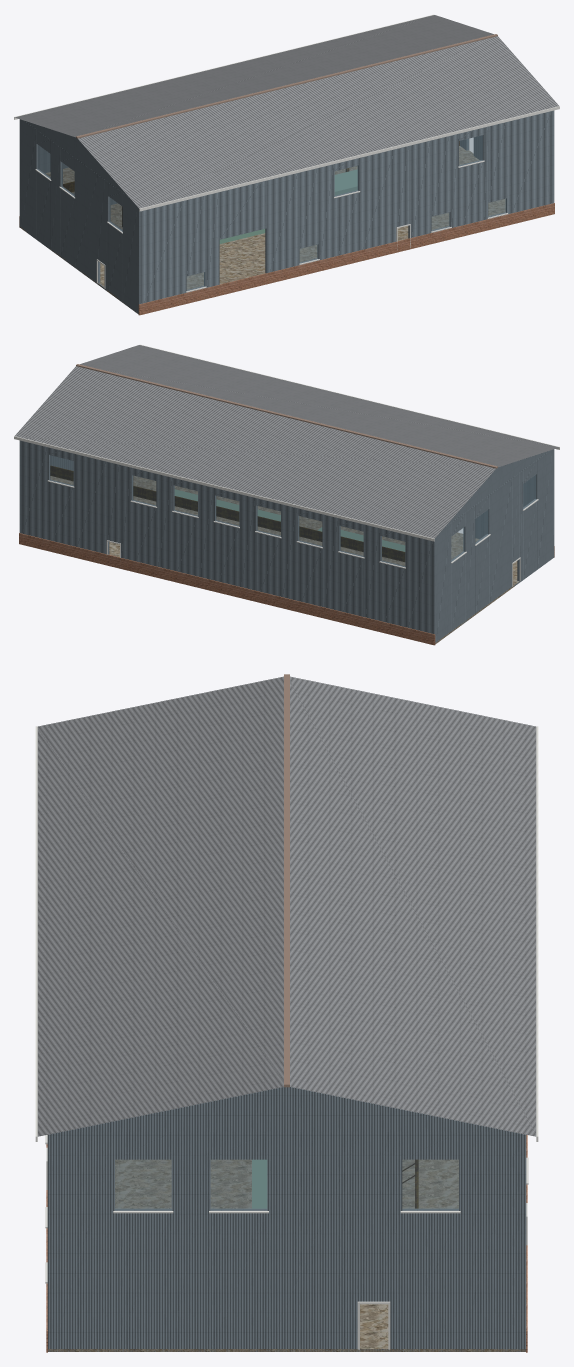
File: ew-turbine-hall.works-v1.lod1.glb
3 renders of one model, top to bottom at view 1: azimuth 30°, elevation 25°; view 2: azimuth 150°, elevation 25°; view 3: azimuth 270°, elevation 25°, orthographic. The views are drawn at different scales.
Parts seen in each view (by area): view 1: ew-turbine-hall; view 2: ew-turbine-hall; view 3: ew-turbine-hall.
Part boxes in pixels (<box>): ew-turbine-hall: <box>14,14,559,315</box>; ew-turbine-hall: <box>14,344,559,645</box>; ew-turbine-hall: <box>35,674,538,1352</box>.
Bounding box in the file's own units: 44.6 × 13.69 × 23.08.
6 materials, 4 textured.
